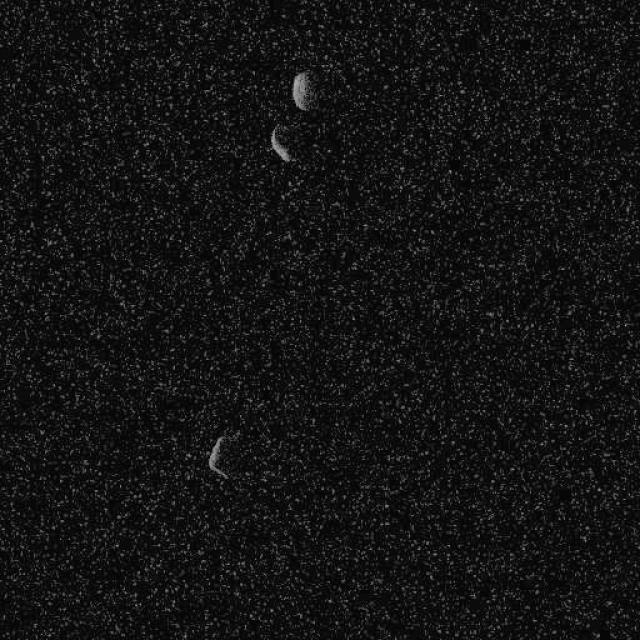D2: (290, 68, 319, 112), (206, 434, 230, 480), (269, 122, 296, 162)
